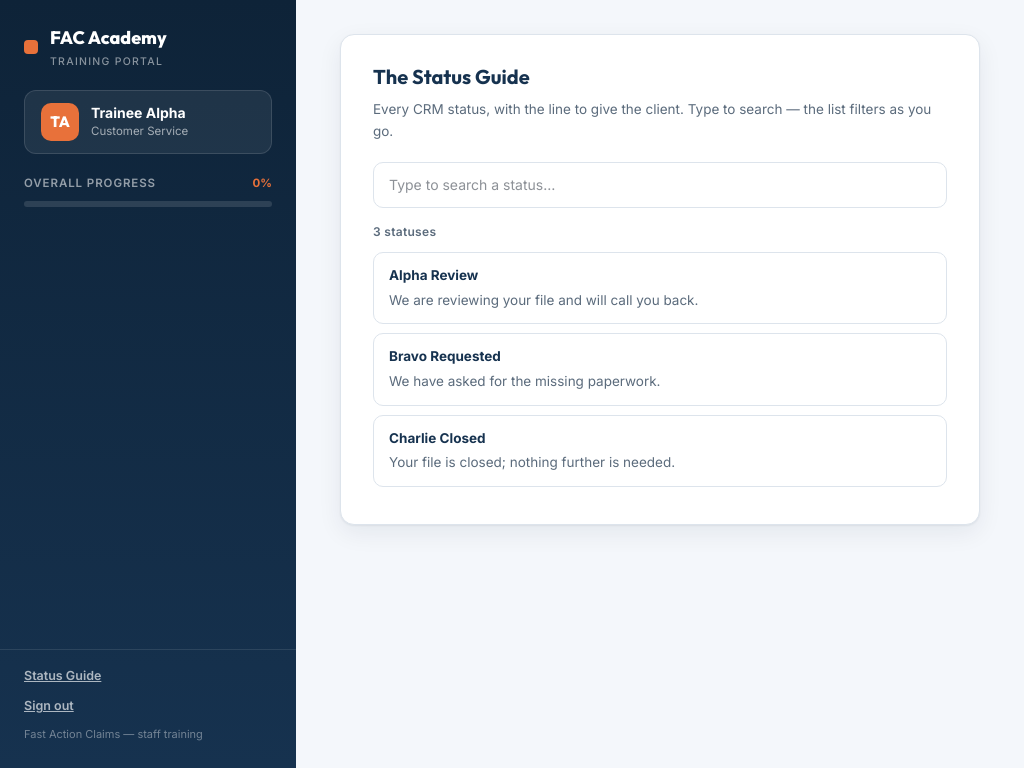
Test: Status Guide page › shows a clear empty state, and the clear button restores the list
The width and height of the screenshot is (1024, 768).
Type "zzzz no such status" into the search field named "Search the status guide" at (660, 185), box [373,162,947,208]
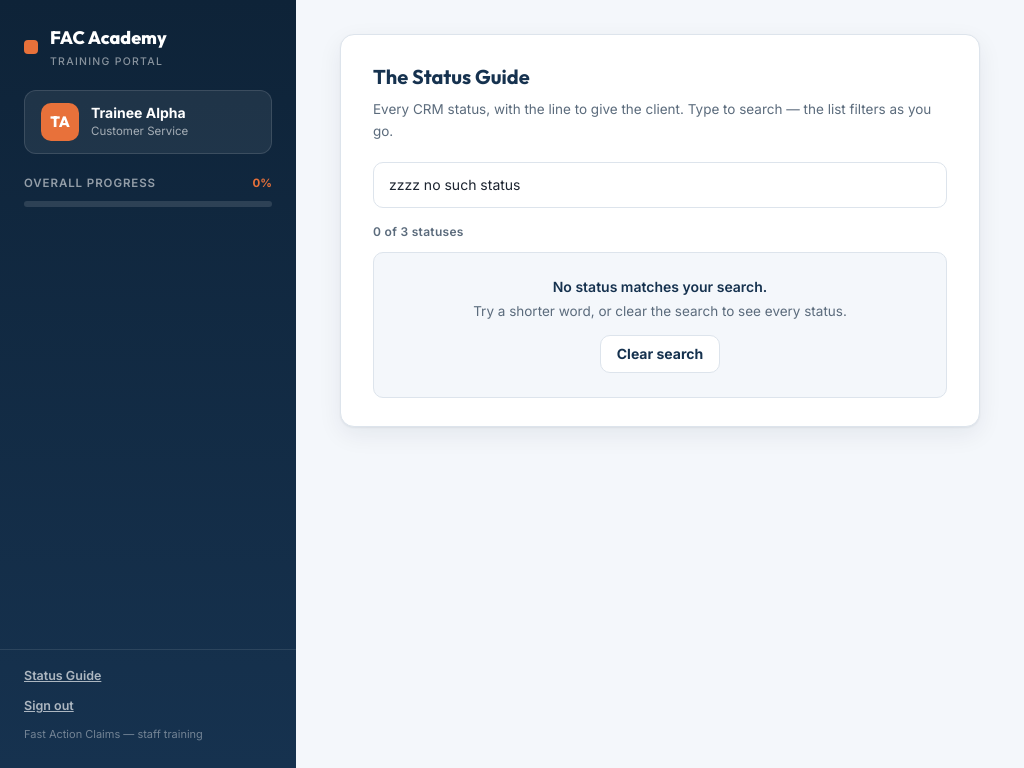
Now the list item "Alpha Review We are reviewing your file and will call you back." is gone
Now the text "No status matches your search." is shown, box [553,278,767,295]
Now the text "0 of 3 statuses" is shown, box [373,224,464,239]
Click the button "Clear search" at (660, 354), box [600,335,720,373]
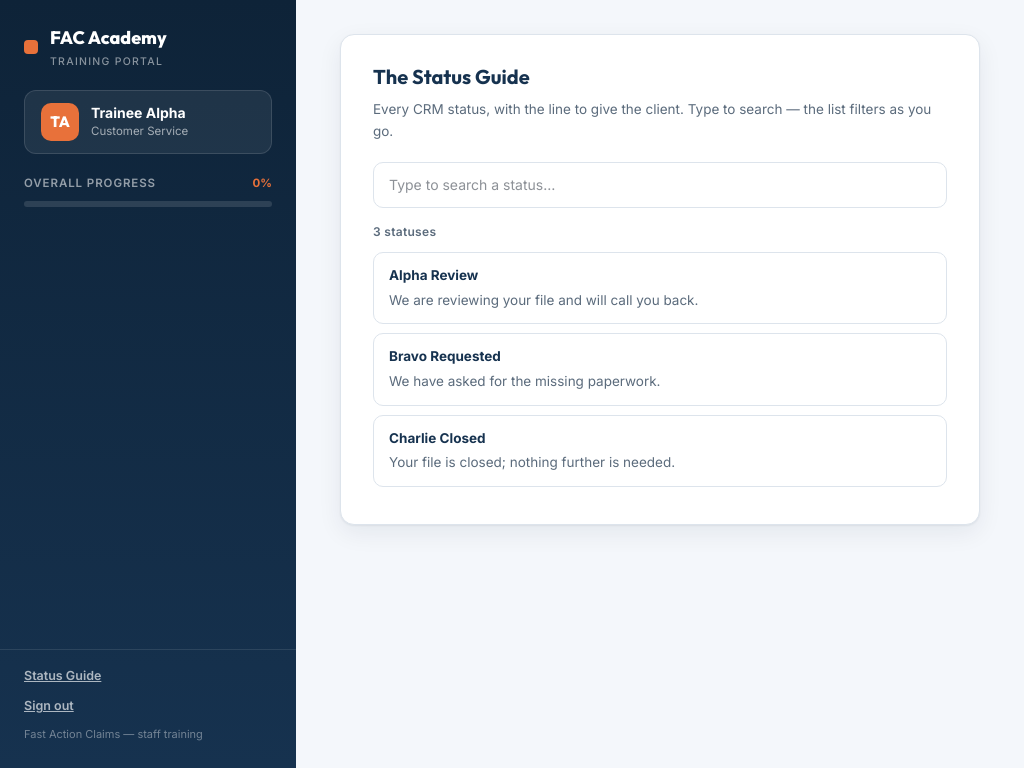
Now the search field named "Search the status guide" is empty, box [373,162,947,208]
